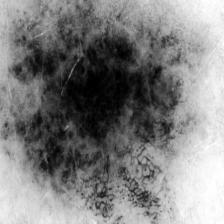Benign Marking or Mole: (11, 5, 180, 202)
